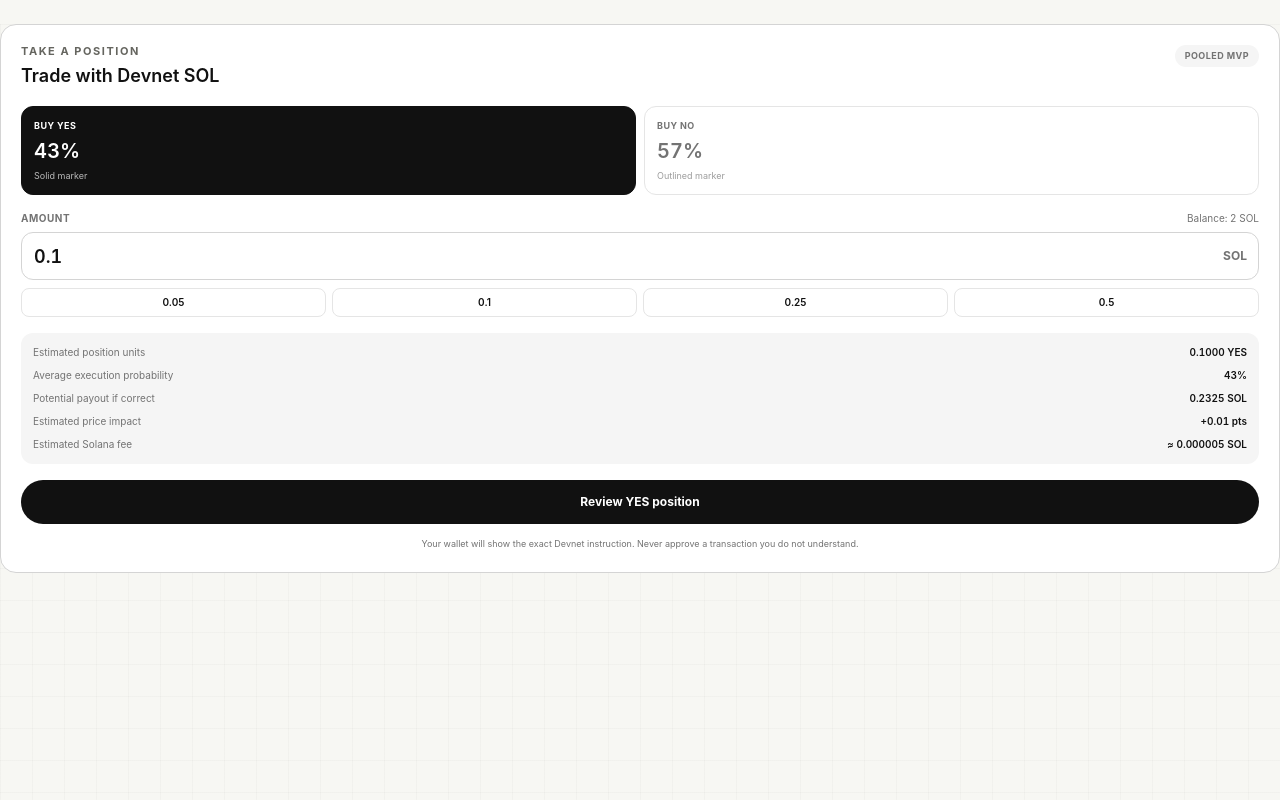
Scenario: prediction purchase controls › shows a transaction loading state and prevents duplicate confirmation
Click the button with test id "review-transaction".
click(640, 502)  # box [21,480,1259,524]
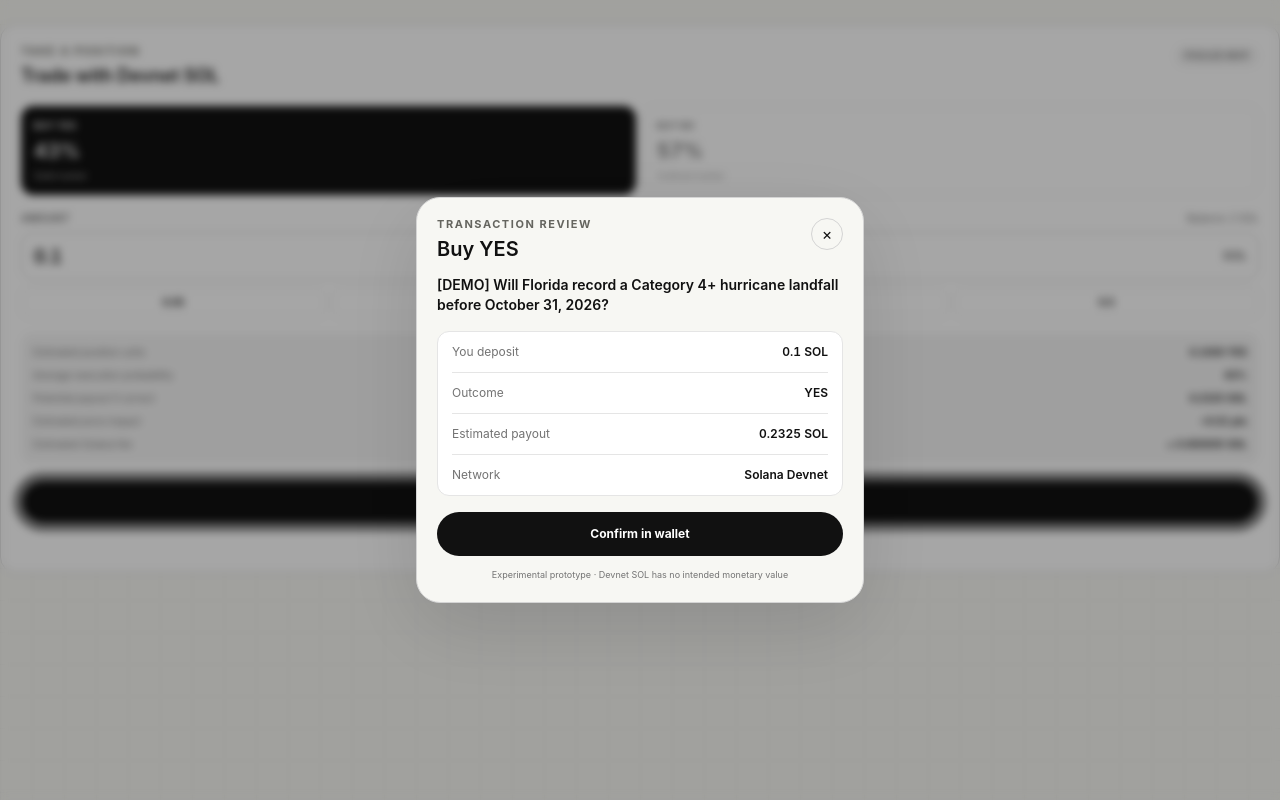
Click the button with test id "confirm-transaction".
click(640, 534)  # box [437,512,843,556]
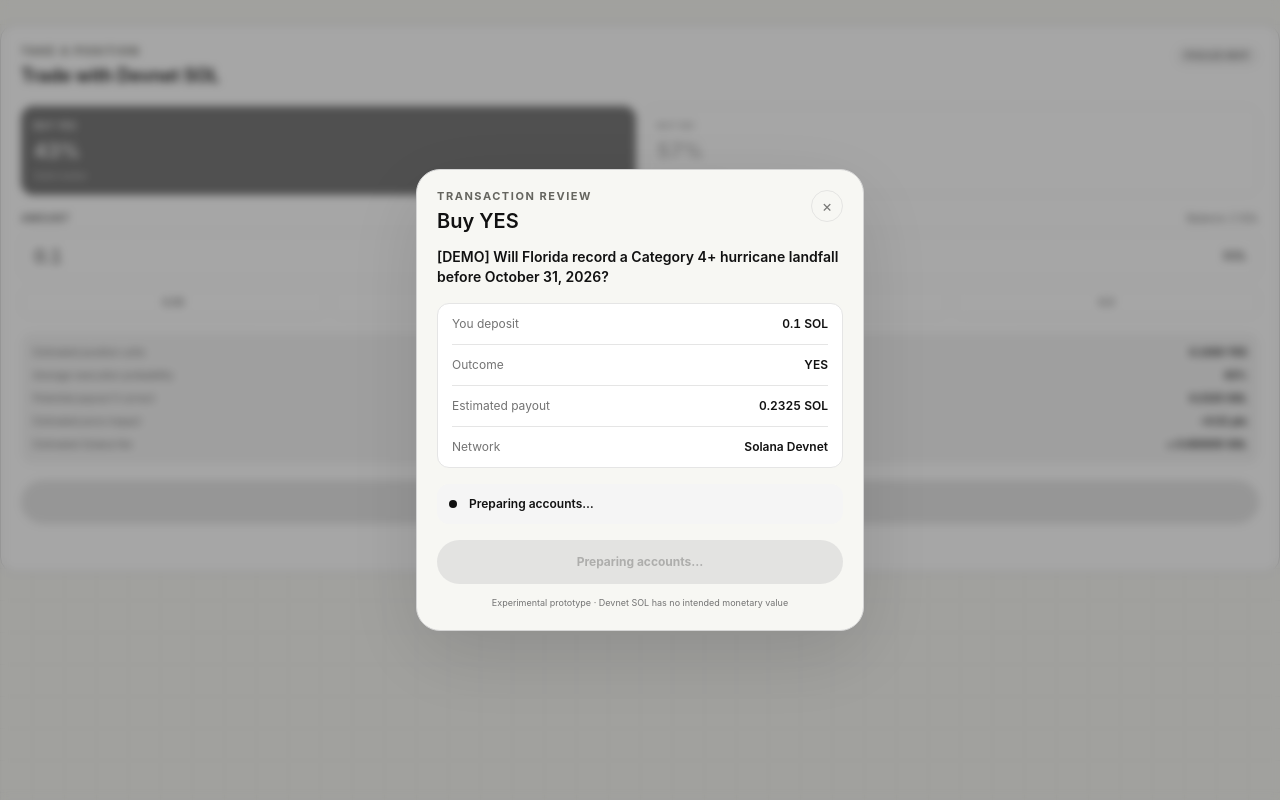
Result: the message shows "Preparing accounts" at [469,496,594,511]
Result: the button with test id "confirm-transaction" is disabled at [437,540,843,584]
